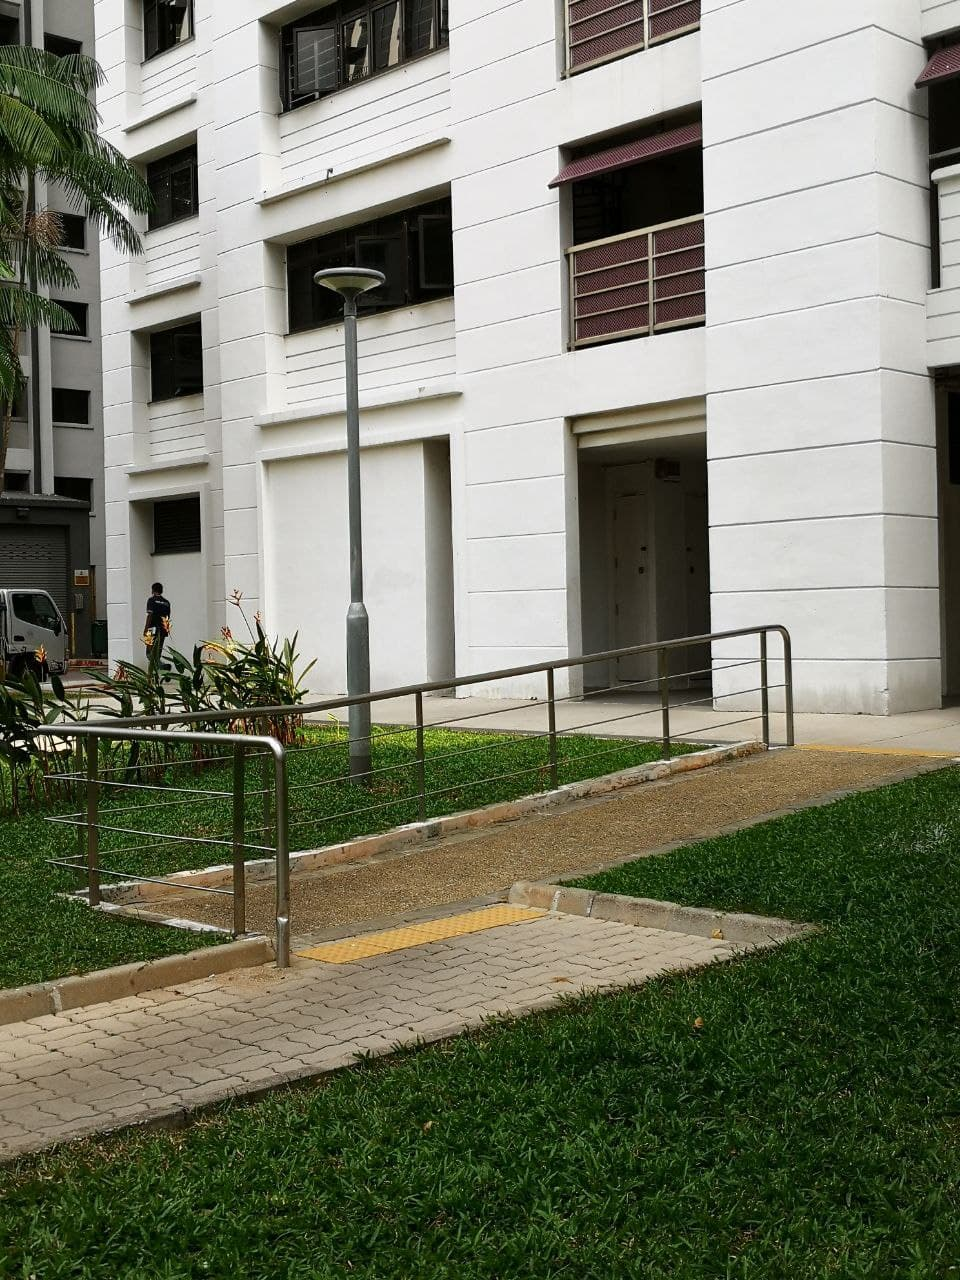slopes: (17, 607, 954, 972)
